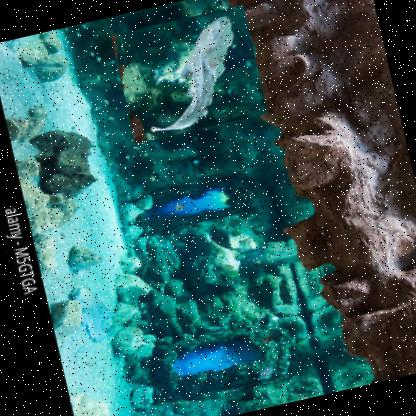zebra_shark: (108, 5, 268, 145)
